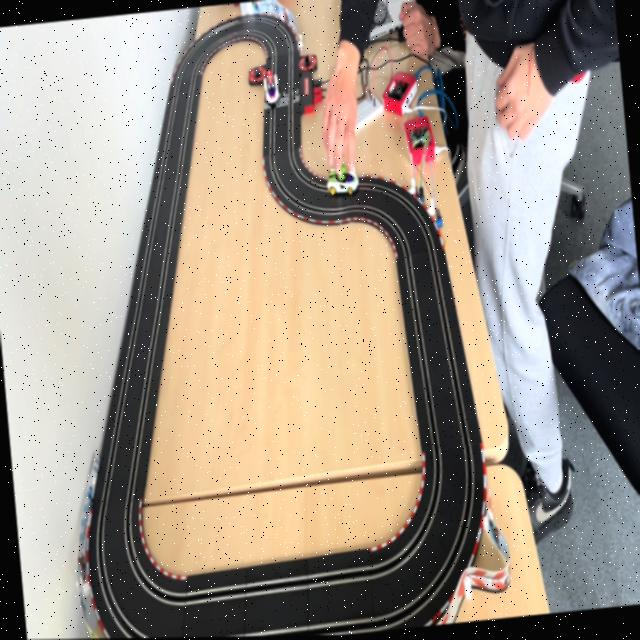mario: (262, 69, 282, 108)
yoshi: (326, 168, 359, 198)
